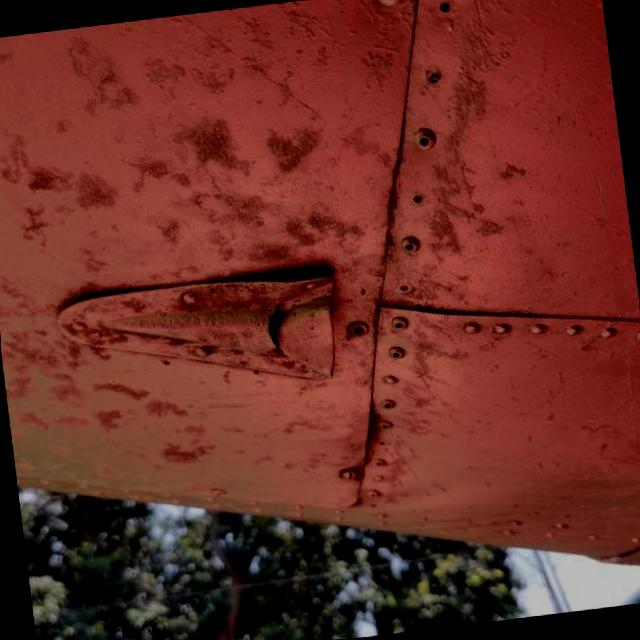Missing Fastener: (416, 60, 450, 90), (403, 183, 426, 213), (421, 0, 456, 18), (372, 439, 392, 455)
